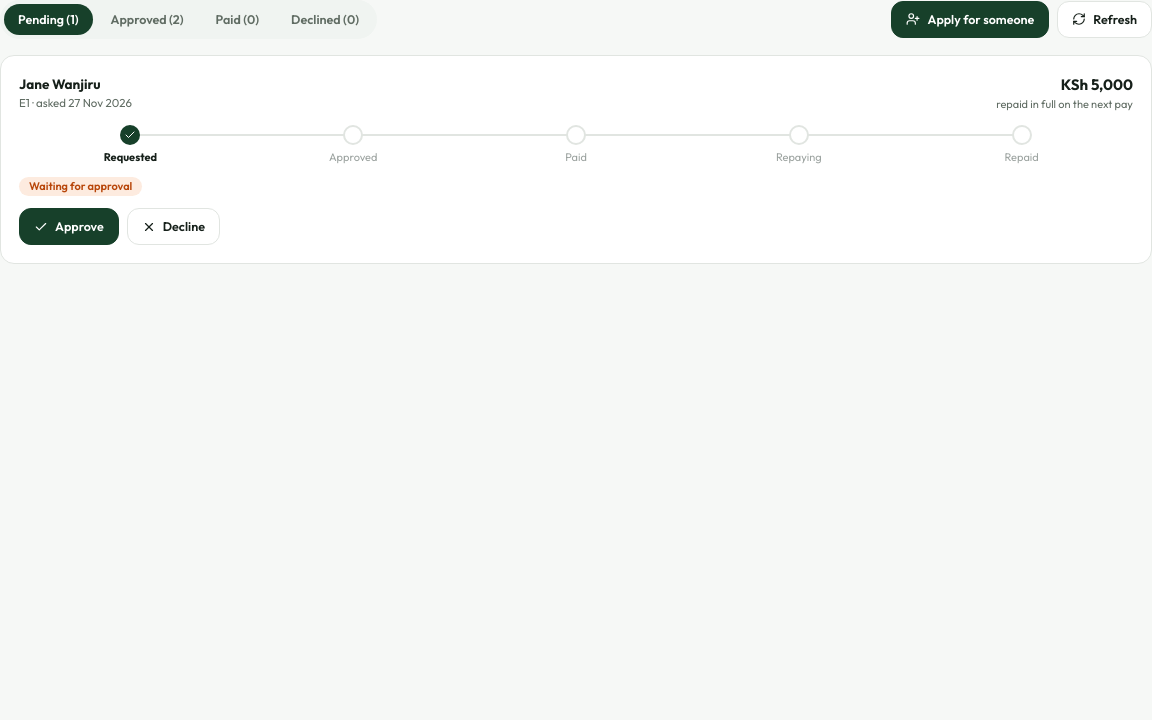
Test case: the advance queue › declines only with a reason
The image size is (1152, 720).
Later steps or results of the test are not shown.
Expected: the text "Jane Wanjiru" is shown, left=19, top=75, right=101, bottom=93
Click the button "Decline": [173, 227] box left=127, top=208, right=220, bottom=245
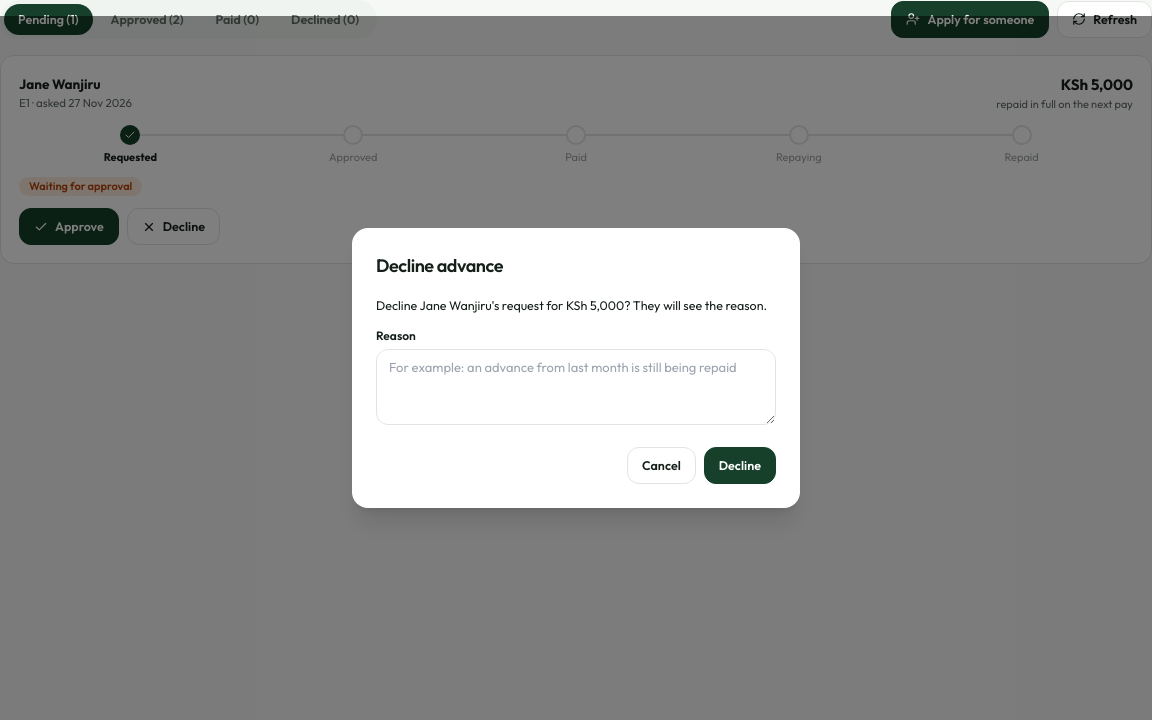
Click the button "Decline": [740, 466] box left=704, top=447, right=776, bottom=484
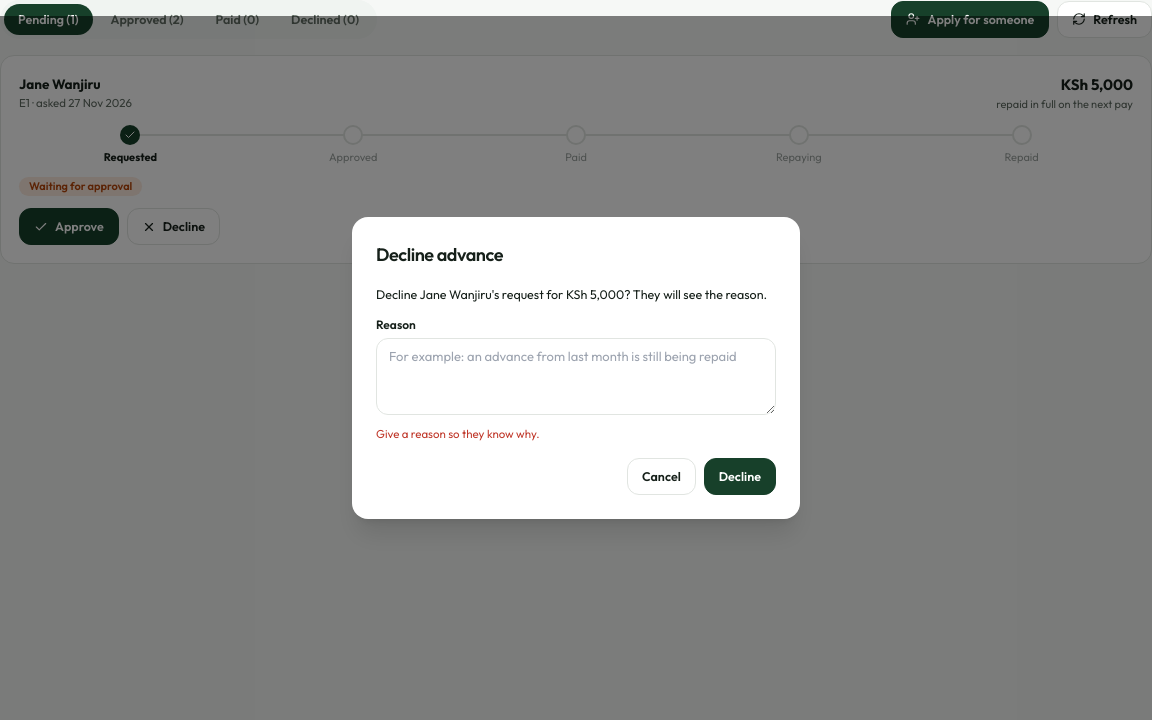
Result: the message shows "reason" at left=376, top=426, right=540, bottom=441
